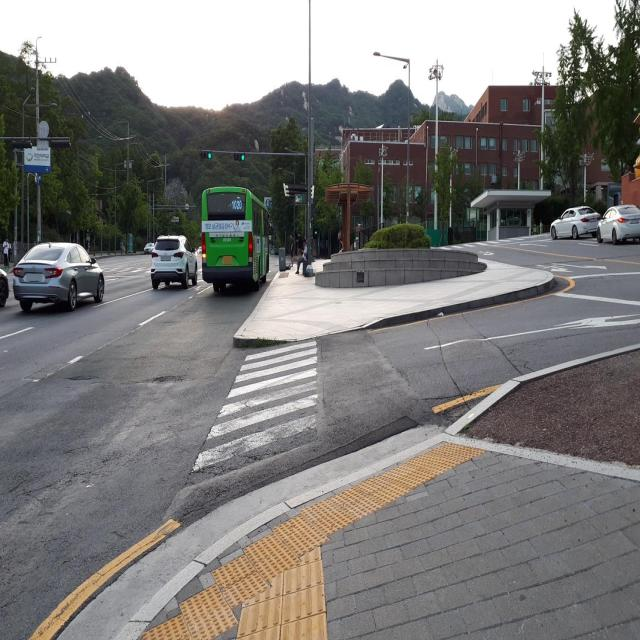횡단보도: (190, 338, 319, 474)
